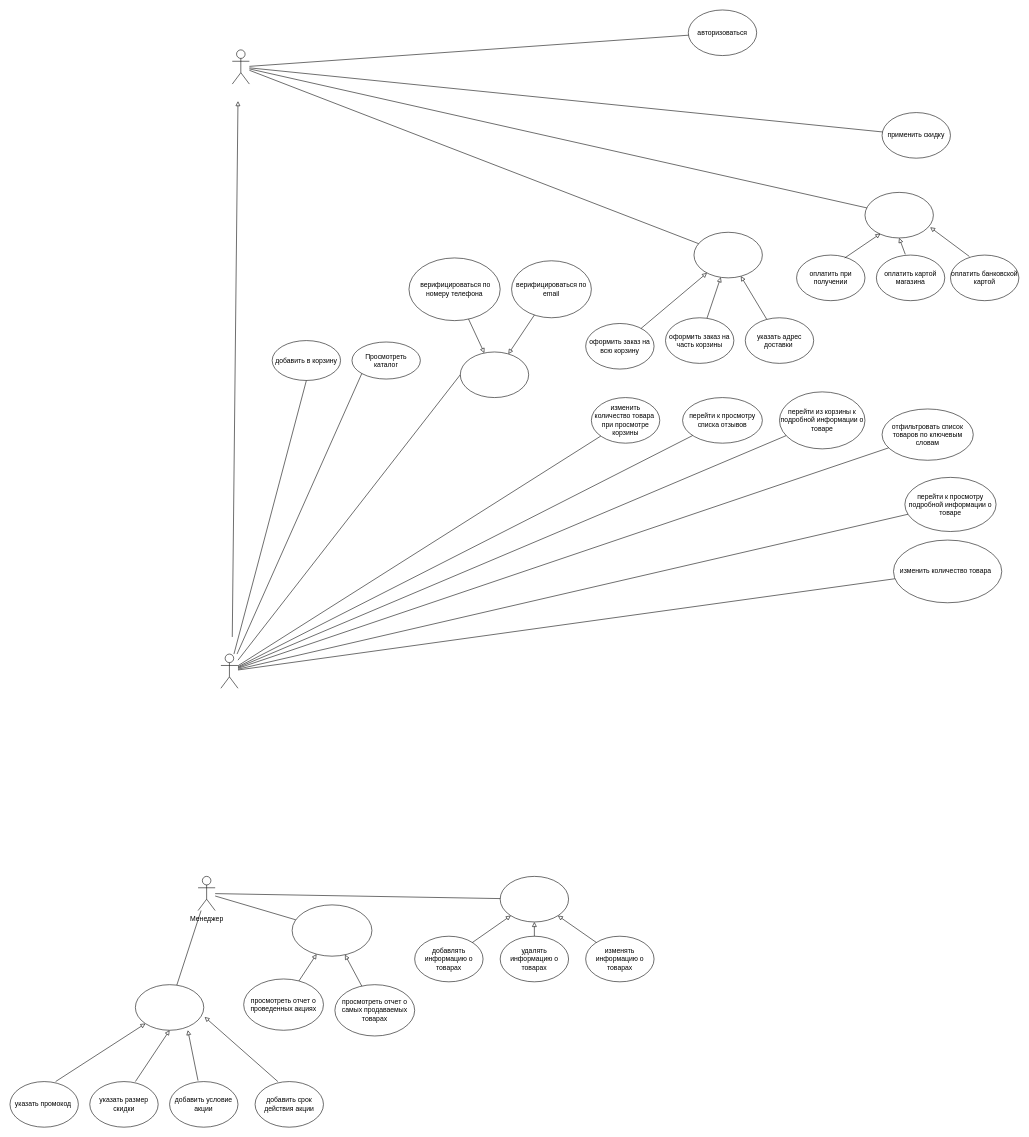
This 1029x1137 diagram has some shape labels left out. The centre of each missing label's shape, as x and y in pixels:
"Гость" belongs at pixel 229 671.
"зарегистрироваться" belongs at pixel 494 374.
"оплатить заказ" belongs at pixel 898 215.
"оформить заказ" belongs at pixel 727 255.
"Покупатель" belongs at pixel 240 66.
"просмотреть отчет" belongs at pixel 332 930.
"редактировать информацию о товарах" belongs at pixel 534 899.
"создать новые акции" belongs at pixel 169 1007.
